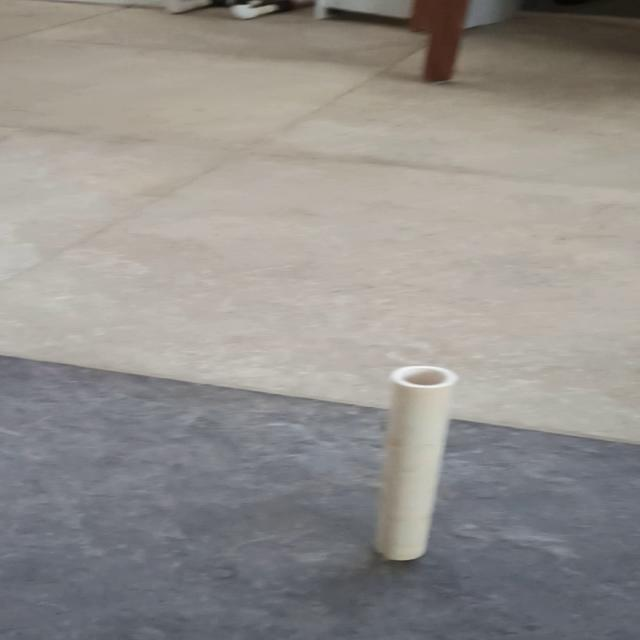Cube: (371, 364, 458, 561)
